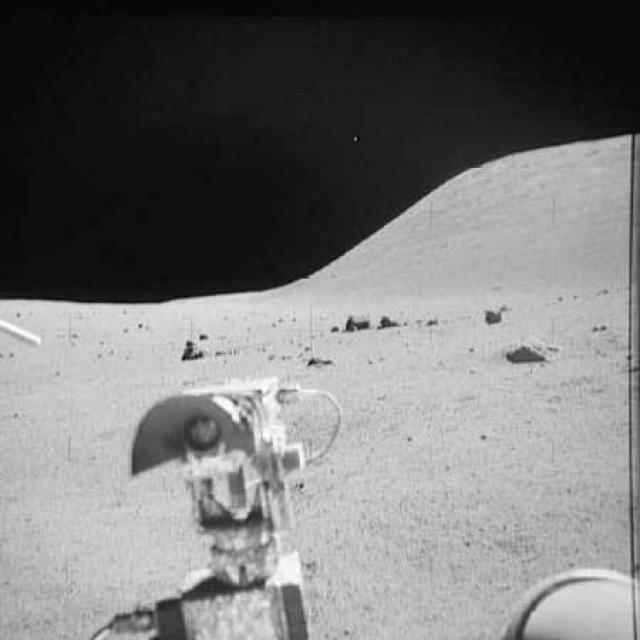artifact: (90, 376, 356, 640), (502, 558, 639, 638), (0, 314, 47, 354)
rock: (504, 335, 564, 370), (338, 308, 373, 338), (179, 335, 208, 363), (478, 304, 508, 328), (303, 353, 338, 371), (379, 311, 401, 334)
